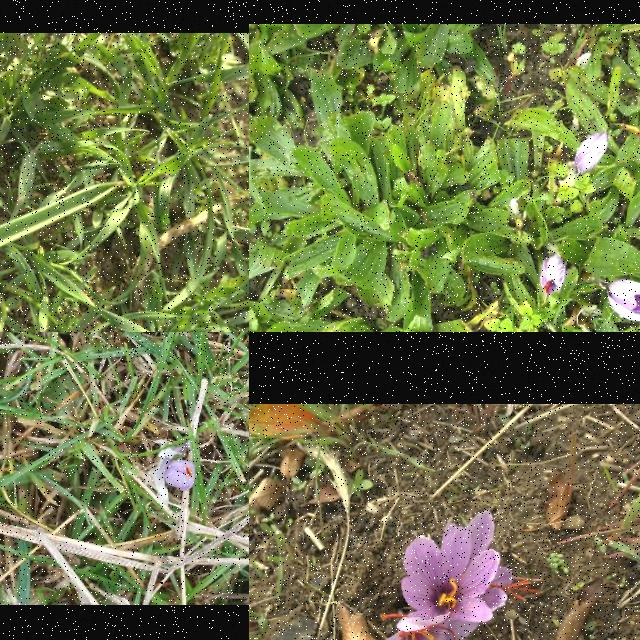flower: (574, 132, 610, 176), (605, 280, 640, 322), (540, 254, 566, 296), (165, 460, 197, 492)
overlap: (378, 510, 540, 640)
